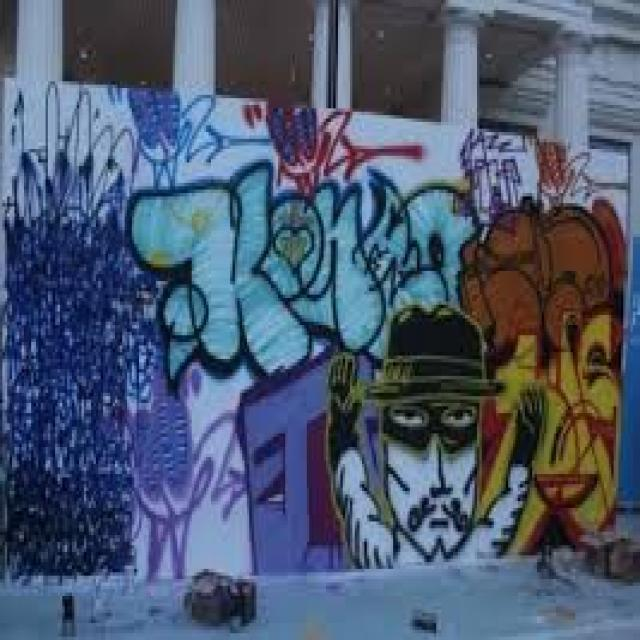-: (5, 93, 630, 578)
